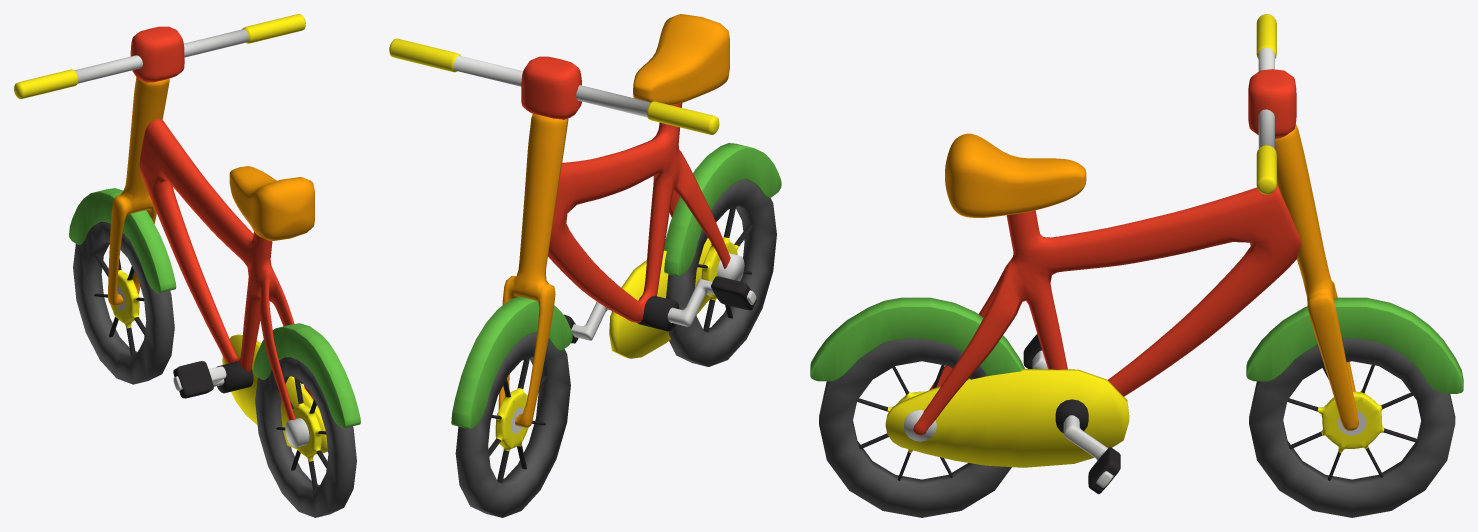
Rendered from VELIK (1).glb.
3 renders of one model, left to right at view 1: azimuth 30°, elevation 25°; view 2: azimuth 150°, elevation 25°; view 3: azimuth 270°, elevation 25°, orthographic. The views are drawn at different scales.
Parts seen in each view (by area): view 1: VELIK (1); view 2: VELIK (1); view 3: VELIK (1).
Part boxes in pixels (left/top/right/bottom): VELIK (1): left=14, top=14, right=360, bottom=517; VELIK (1): left=389, top=14, right=781, bottom=517; VELIK (1): left=810, top=14, right=1463, bottom=517.
Bounding box in the file's own units: 2.65 × 3.27 × 4.44.
